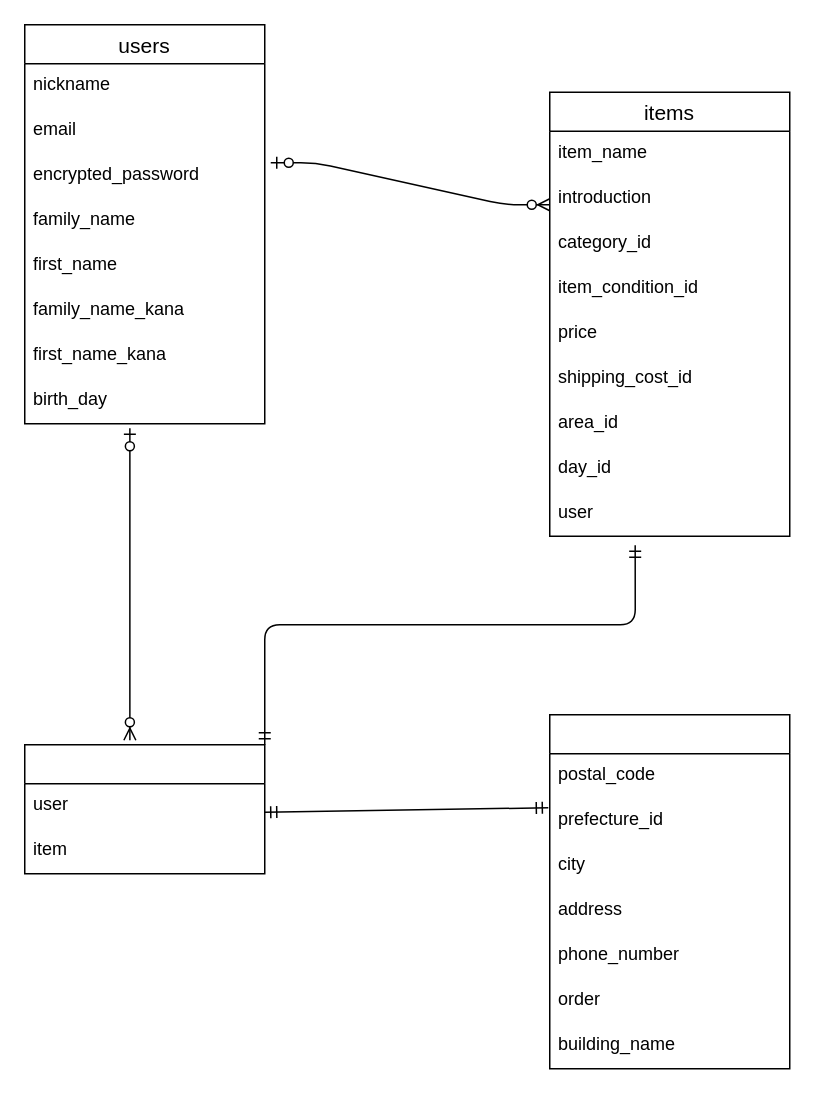
The diagram is 815 pixels wide and 1094 high, and some of its shapes have lost their labels. Here are the shapes that lost their labels. From the top down, the box of each, then its label:
(23, 743, 265, 874): orders
(548, 713, 790, 1069): deliverys
